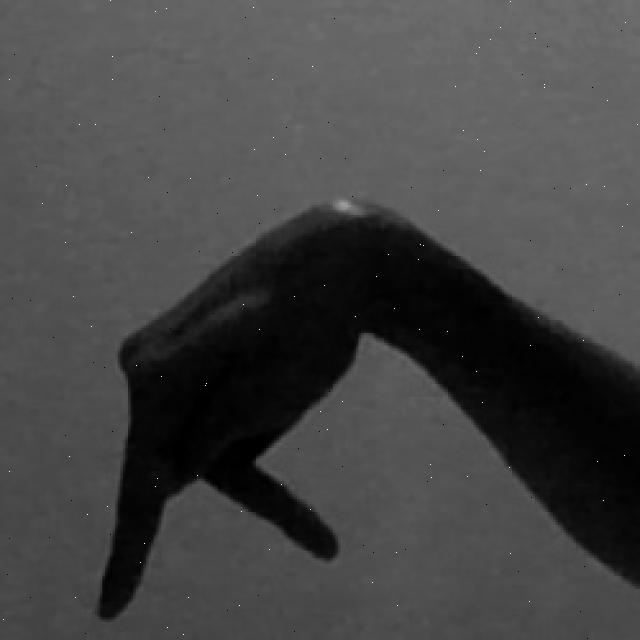P: (89, 188, 640, 624)
